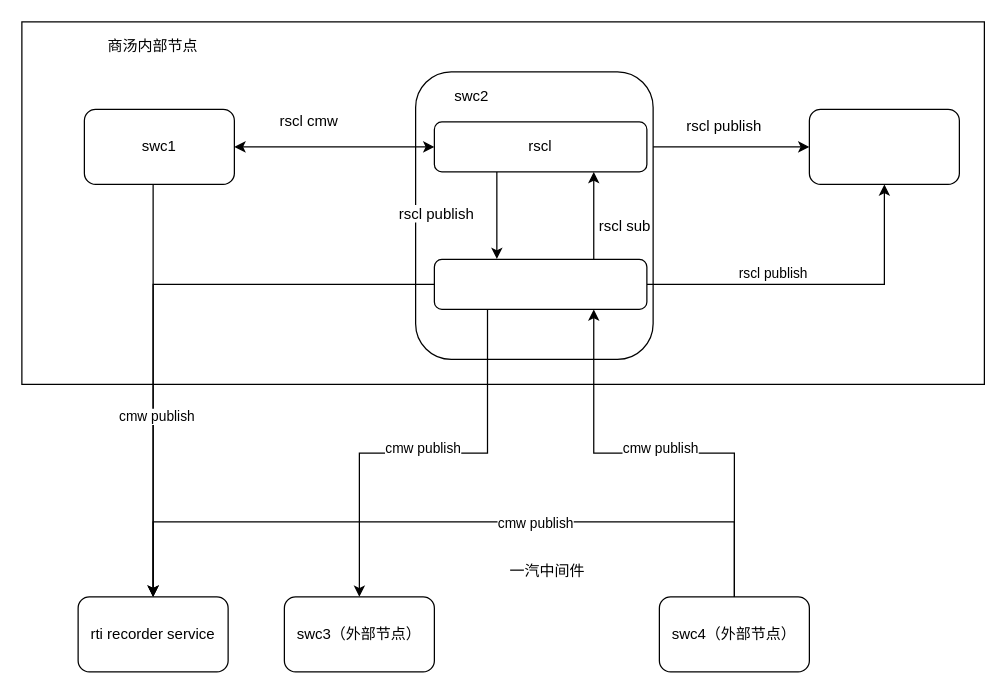
This 1006x694 diagram has some shape labels left out. The shapes that lost their labels are listed below. From the top down, each one's centre as x and y in pixels, then its label:
pixel 883 146: rsclbag recorder
pixel 540 283: rscl cmw bridge
